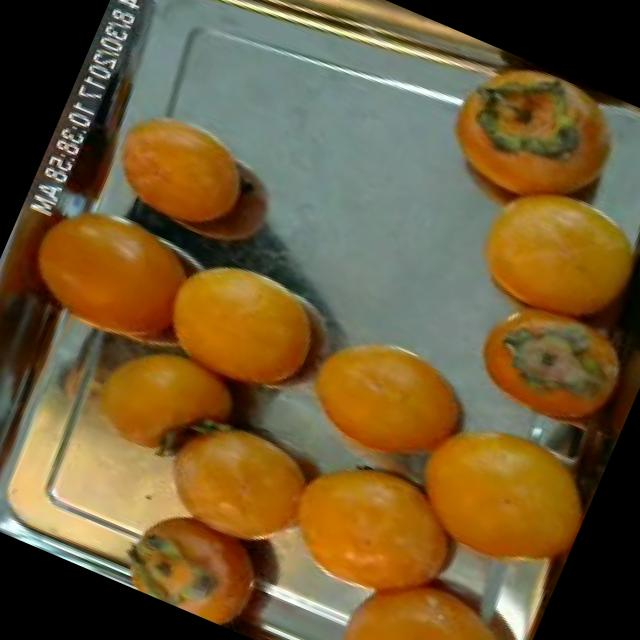Fruit: (364, 378, 610, 616), (132, 224, 366, 438), (272, 298, 508, 506), (439, 144, 640, 365), (80, 81, 310, 264)
